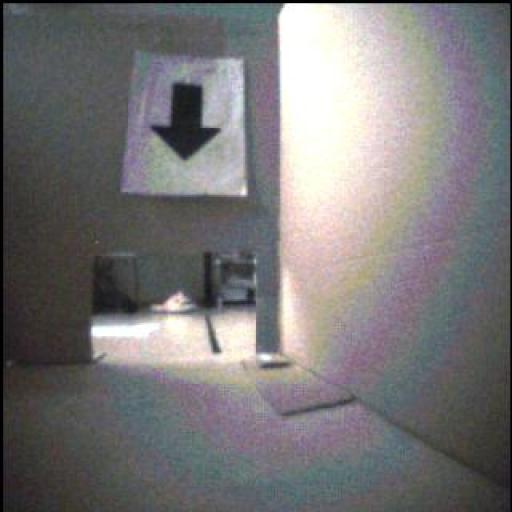arrow: (153, 84, 222, 161)
